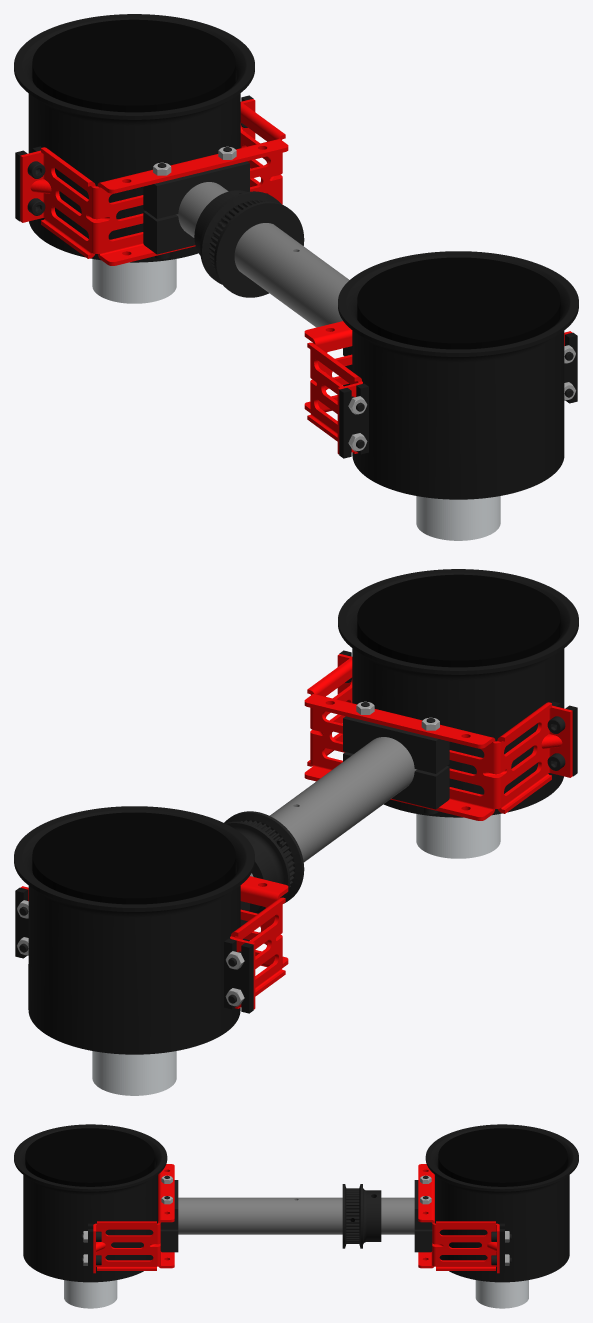
File: gimbal_pitch_module.dae
The picture shows the model from 3 angles, top to bottom: view 1: azimuth 30°, elevation 25°; view 2: azimuth 150°, elevation 25°; view 3: azimuth 270°, elevation 25°; orthographic projection. The views are drawn at different scales.
Parts seen in each view (by area): view 1: node_fed79f99_bdbe_4b58_b05e_0373cc6c6488_mesh1, node_fed79f99_bdbe_4b58_b05e_0373cc6c6488_mesh4, node_fed79f99_bdbe_4b58_b05e_0373cc6c6488_mesh3, node_fed79f99_bdbe_4b58_b05e_0373cc6c6488_mesh0, node_fed79f99_bdbe_4b58_b05e_0373cc6c6488_mesh6, node_fed79f99_bdbe_4b58_b05e_0373cc6c6488_mesh7, node_fed79f99_bdbe_4b58_b05e_0373cc6c6488_mesh5, node_fed79f99_bdbe_4b58_b05e_0373cc6c6488_mesh2; view 2: node_fed79f99_bdbe_4b58_b05e_0373cc6c6488_mesh1, node_fed79f99_bdbe_4b58_b05e_0373cc6c6488_mesh4, node_fed79f99_bdbe_4b58_b05e_0373cc6c6488_mesh3, node_fed79f99_bdbe_4b58_b05e_0373cc6c6488_mesh0, node_fed79f99_bdbe_4b58_b05e_0373cc6c6488_mesh6, node_fed79f99_bdbe_4b58_b05e_0373cc6c6488_mesh7, node_fed79f99_bdbe_4b58_b05e_0373cc6c6488_mesh5, node_fed79f99_bdbe_4b58_b05e_0373cc6c6488_mesh2; view 3: node_fed79f99_bdbe_4b58_b05e_0373cc6c6488_mesh1, node_fed79f99_bdbe_4b58_b05e_0373cc6c6488_mesh4, node_fed79f99_bdbe_4b58_b05e_0373cc6c6488_mesh6, node_fed79f99_bdbe_4b58_b05e_0373cc6c6488_mesh3, node_fed79f99_bdbe_4b58_b05e_0373cc6c6488_mesh0, node_fed79f99_bdbe_4b58_b05e_0373cc6c6488_mesh7, node_fed79f99_bdbe_4b58_b05e_0373cc6c6488_mesh2, node_fed79f99_bdbe_4b58_b05e_0373cc6c6488_mesh5.
Boxes of the visible parts, x1,y1,x2,y2 form: node_fed79f99_bdbe_4b58_b05e_0373cc6c6488_mesh1: (14,14,578,499); node_fed79f99_bdbe_4b58_b05e_0373cc6c6488_mesh4: (32,19,560,349); node_fed79f99_bdbe_4b58_b05e_0373cc6c6488_mesh3: (20,99,572,454); node_fed79f99_bdbe_4b58_b05e_0373cc6c6488_mesh0: (27,123,573,448); node_fed79f99_bdbe_4b58_b05e_0373cc6c6488_mesh6: (176,182,349,327); node_fed79f99_bdbe_4b58_b05e_0373cc6c6488_mesh7: (92,259,500,540); node_fed79f99_bdbe_4b58_b05e_0373cc6c6488_mesh5: (28,146,575,451); node_fed79f99_bdbe_4b58_b05e_0373cc6c6488_mesh2: (37,148,352,356); node_fed79f99_bdbe_4b58_b05e_0373cc6c6488_mesh1: (14,569,578,1054); node_fed79f99_bdbe_4b58_b05e_0373cc6c6488_mesh4: (32,574,560,904); node_fed79f99_bdbe_4b58_b05e_0373cc6c6488_mesh3: (20,654,572,1009); node_fed79f99_bdbe_4b58_b05e_0373cc6c6488_mesh0: (19,678,565,1003); node_fed79f99_bdbe_4b58_b05e_0373cc6c6488_mesh6: (250,737,416,876); node_fed79f99_bdbe_4b58_b05e_0373cc6c6488_mesh7: (92,814,500,1095); node_fed79f99_bdbe_4b58_b05e_0373cc6c6488_mesh5: (17,701,564,1006); node_fed79f99_bdbe_4b58_b05e_0373cc6c6488_mesh2: (240,703,557,941); node_fed79f99_bdbe_4b58_b05e_0373cc6c6488_mesh1: (14,1124,578,1282); node_fed79f99_bdbe_4b58_b05e_0373cc6c6488_mesh4: (25,1128,567,1221); node_fed79f99_bdbe_4b58_b05e_0373cc6c6488_mesh6: (178,1197,414,1234); node_fed79f99_bdbe_4b58_b05e_0373cc6c6488_mesh3: (93,1164,499,1273); node_fed79f99_bdbe_4b58_b05e_0373cc6c6488_mesh0: (81,1175,511,1265); node_fed79f99_bdbe_4b58_b05e_0373cc6c6488_mesh7: (64,1280,528,1308); node_fed79f99_bdbe_4b58_b05e_0373cc6c6488_mesh2: (160,1177,432,1252); node_fed79f99_bdbe_4b58_b05e_0373cc6c6488_mesh5: (83,1175,509,1265).
Size of the model in its own units: 93 by 306 by 84.67.
